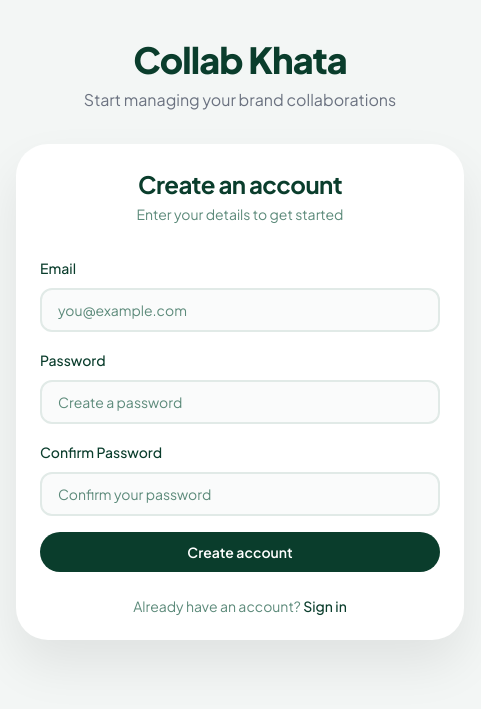
Test: RegisterPage › should display error message on registration failure
In the field labelled "Email": {"x": 240, "y": 310} 40,288 -> 440,332, type "existing@example.com"
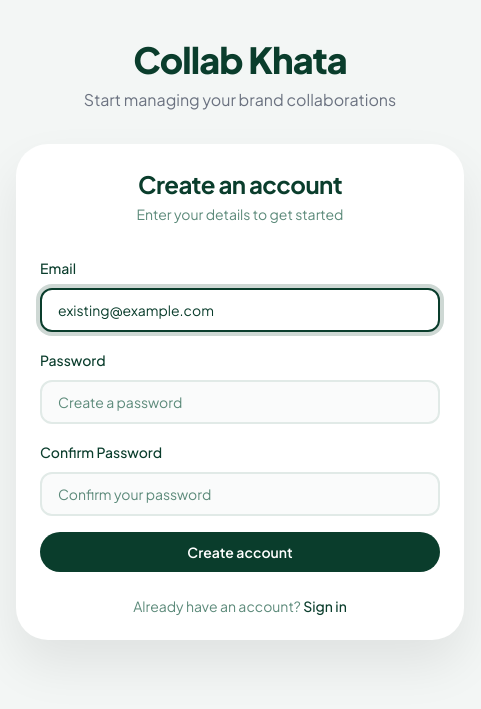
In the password field labelled "Password": {"x": 240, "y": 402} 40,380 -> 440,424, type "password123"
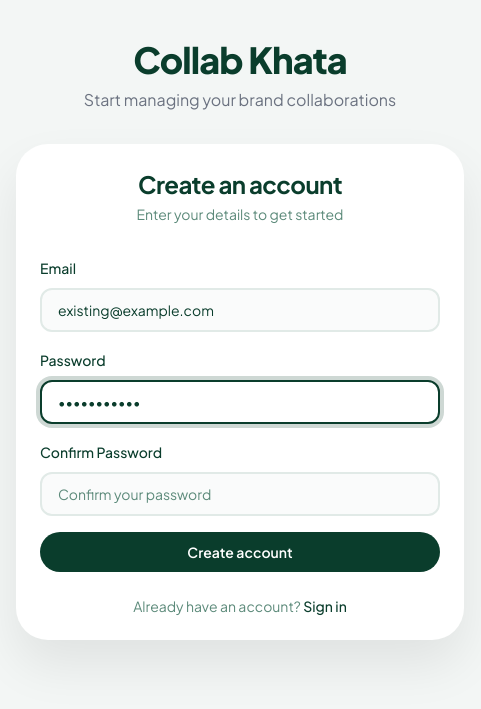
In the password field labelled "Confirm Password": {"x": 240, "y": 494} 40,472 -> 440,516, type "password123"
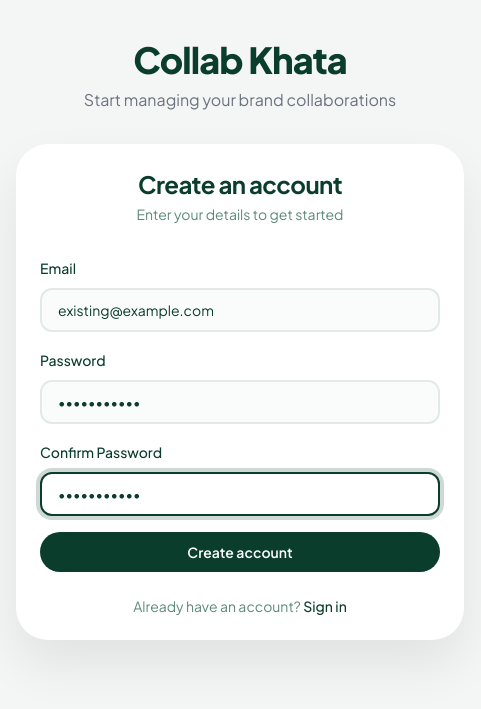
Click the button "Create account": {"x": 240, "y": 552} 40,532 -> 440,572
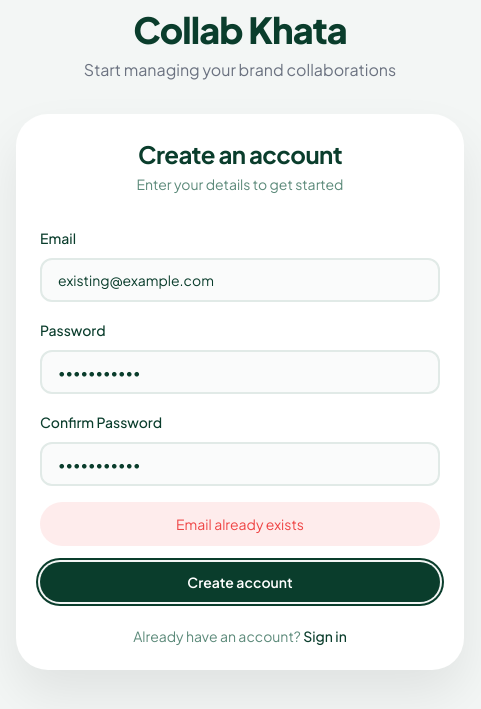
Check: the text "Email already exists" is shown, box 40,502 -> 440,546
